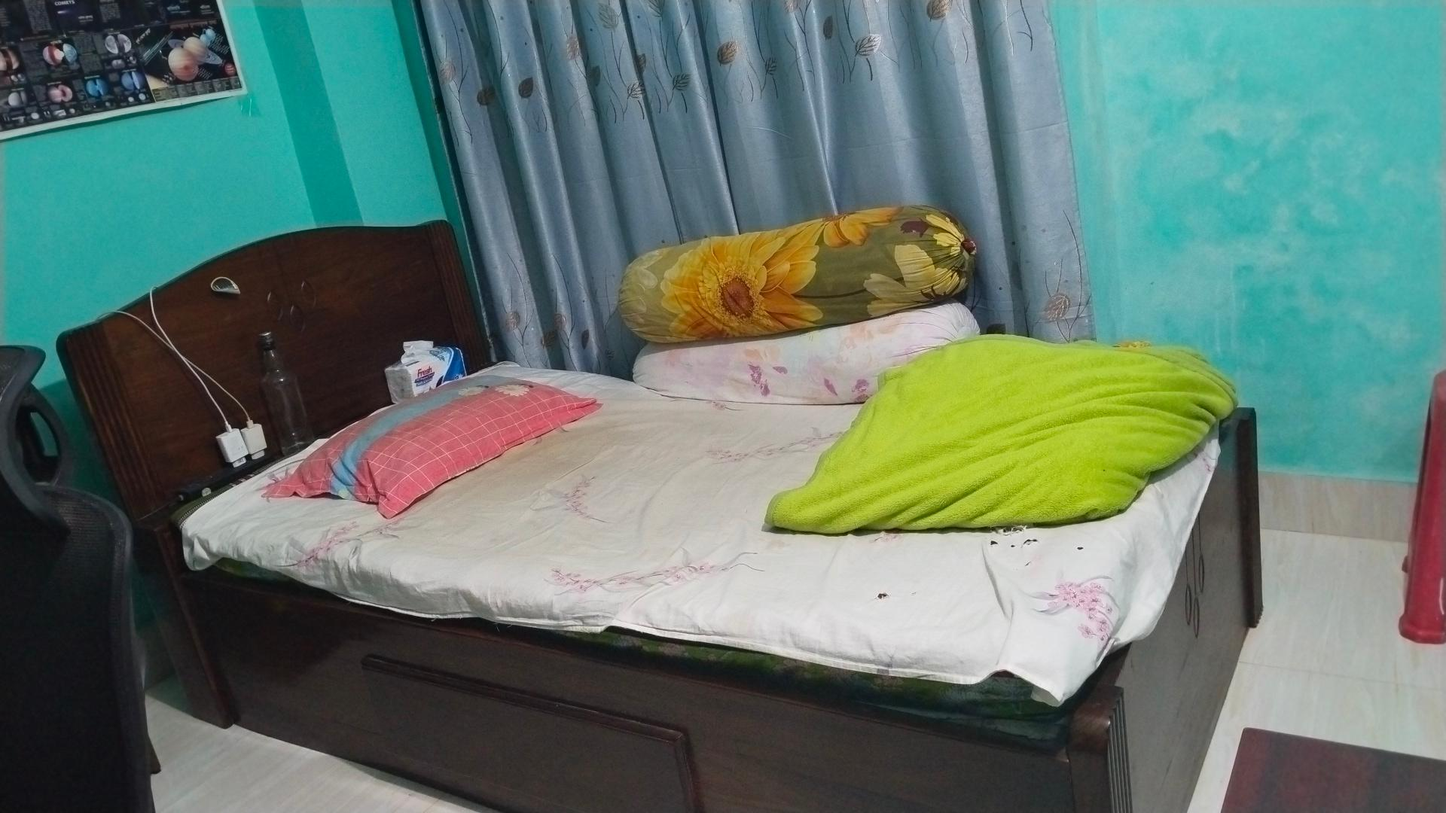Blanket: (766, 308, 1234, 544)
Bottle: (241, 314, 311, 455)
Pillow: (298, 319, 562, 509), (614, 311, 966, 420), (613, 226, 996, 317)
